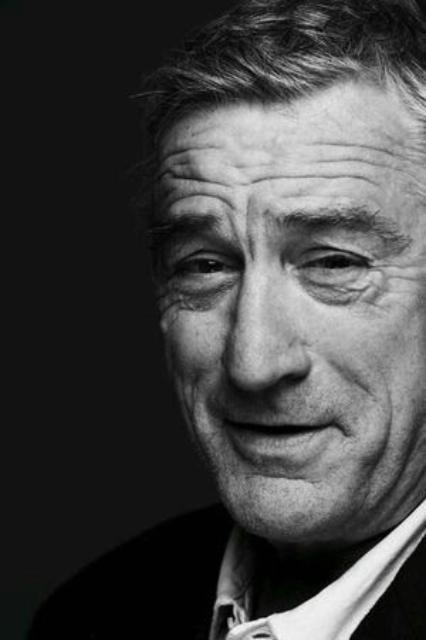crows_feet: (364, 249, 408, 293)
forehead: (316, 131, 392, 173), (164, 151, 210, 199), (319, 159, 373, 193), (240, 165, 306, 187)
frown_line: (238, 216, 260, 262)
masseter: (368, 410, 394, 466)
